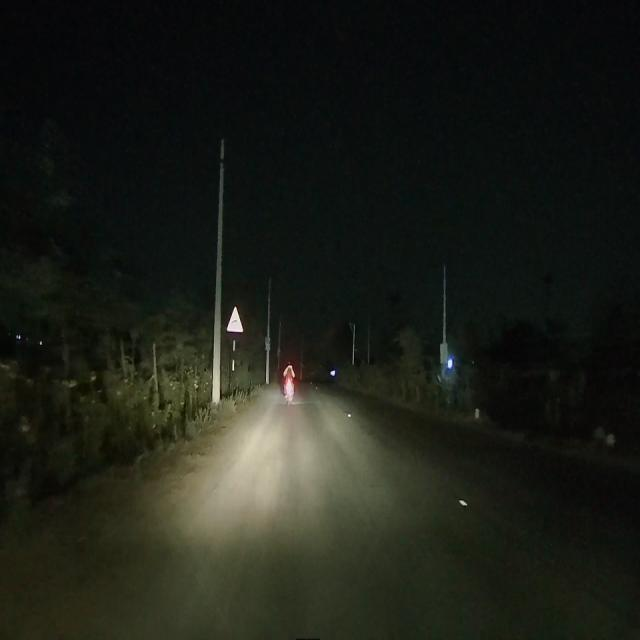right-hand-curve: (224, 296, 245, 340)
